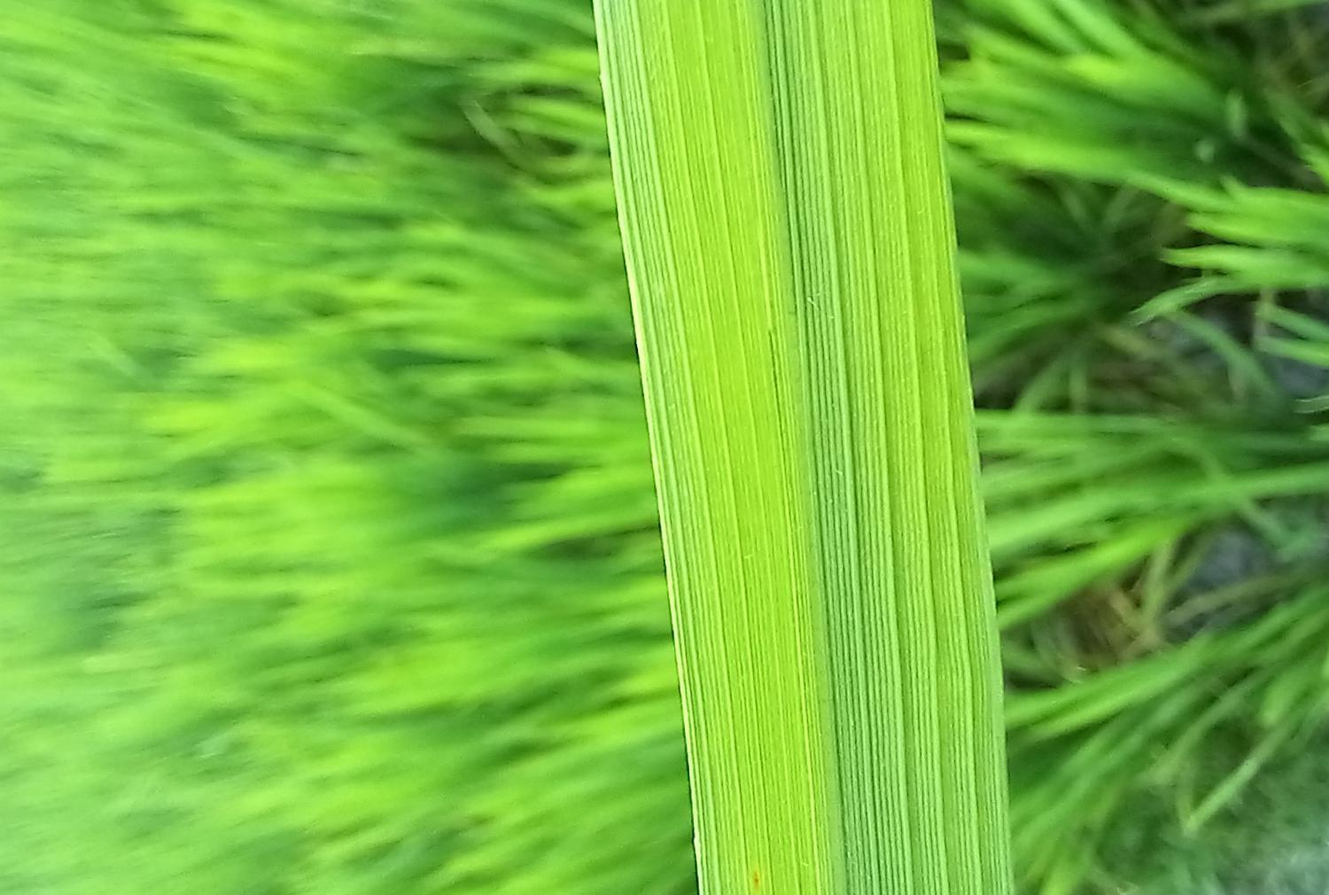Healthy: (594, 1, 1014, 894)
